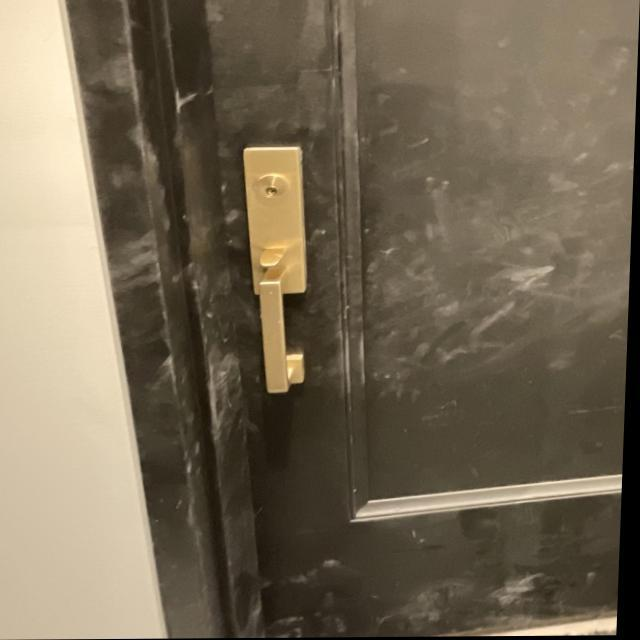door_handle: (240, 269, 324, 407)
